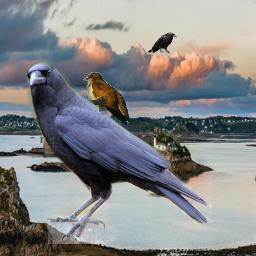Crow: (22, 62, 213, 244), (146, 32, 177, 55)
Cuckoo: (83, 72, 129, 126)
